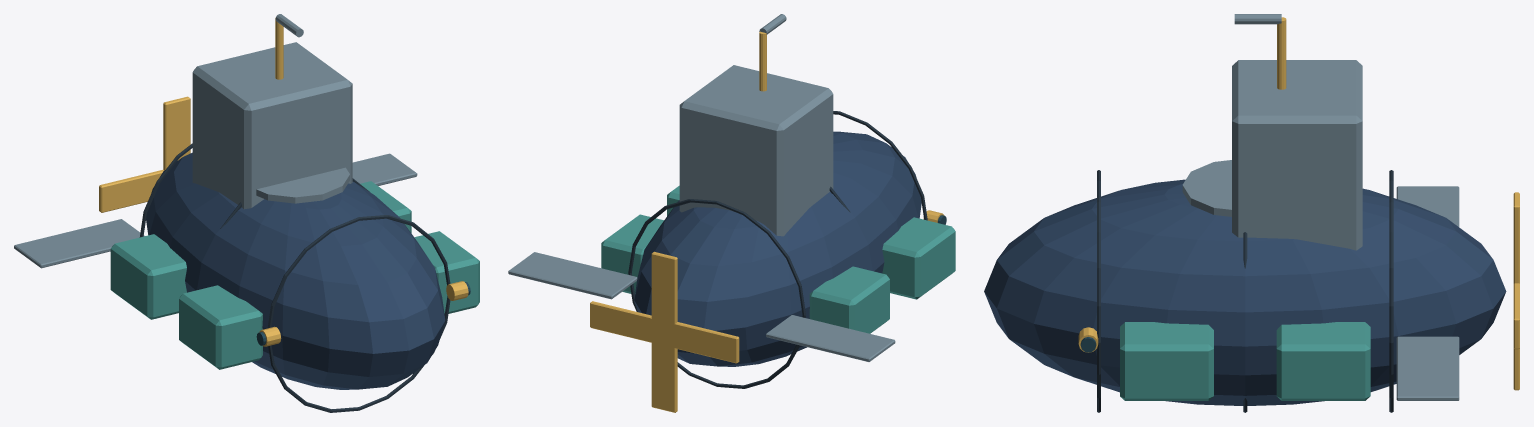
The model's file is submarines-cargo-sub.lod0.glb.
3 renders of one model, left to right at view 1: azimuth 30°, elevation 25°; view 2: azimuth 150°, elevation 25°; view 3: azimuth 270°, elevation 25°, orthographic. The views are drawn at different scales.
Visible parts, largest first — view 1: submarines-cargo-sub__body, submarines-cargo-sub__propeller, submarines-cargo-sub__hatch; view 2: submarines-cargo-sub__body, submarines-cargo-sub__propeller; view 3: submarines-cargo-sub__body, submarines-cargo-sub__hatch, submarines-cargo-sub__propeller.
Part boxes in pixels (x1,y1,x2,y2): submarines-cargo-sub__body: (14,14,479,412); submarines-cargo-sub__propeller: (99,96,190,212); submarines-cargo-sub__hatch: (256,167,349,203); submarines-cargo-sub__body: (508,14,955,388); submarines-cargo-sub__propeller: (590,251,739,412); submarines-cargo-sub__body: (984,14,1506,412); submarines-cargo-sub__hatch: (1182,160,1231,216); submarines-cargo-sub__propeller: (1513,192,1519,390).
Size of the model in its own units: 9.55 by 8.19 by 10.26.
